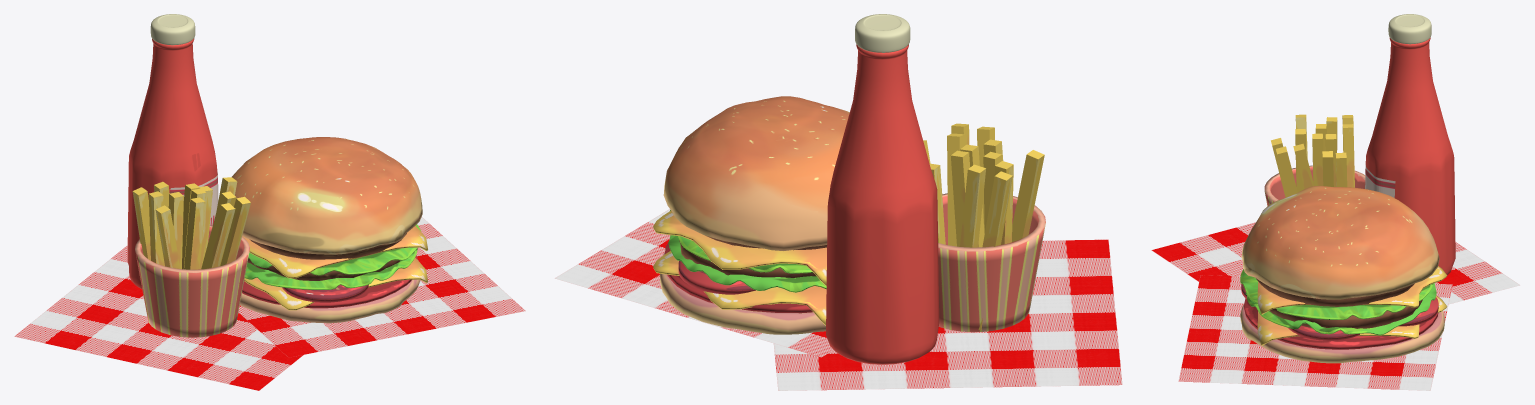
File: burger_and_fries.glb
3 views of the same model, side by side, from view 1: azimuth 30°, elevation 25°; view 2: azimuth 150°, elevation 25°; view 3: azimuth 270°, elevation 25° (orthographic). The views are drawn at different scales.
Visible parts, largest first — view 1: burger_0, fries_1, Plane_2, label_4, Plane.001_3; view 2: burger_0, label_4, Plane_2, fries_1, Plane.001_3; view 3: burger_0, label_4, Plane.001_3, Plane_2, fries_1.
Part boxes in pixels (box(x1,y1,x2,y2)): burger_0: box(232, 137, 427, 323); fries_1: box(132, 177, 250, 337); Plane_2: box(14, 245, 303, 390); label_4: box(127, 14, 218, 288); Plane.001_3: box(238, 217, 525, 357); burger_0: box(653, 96, 849, 334); label_4: box(826, 14, 939, 364); Plane_2: box(773, 239, 1122, 390); fries_1: box(923, 123, 1045, 332); Plane.001_3: box(555, 209, 833, 357); burger_0: box(1240, 186, 1447, 363); label_4: box(1365, 14, 1455, 275); Plane.001_3: box(1178, 275, 1452, 390); Plane_2: box(1151, 222, 1519, 304); fries_1: box(1264, 114, 1365, 206).
Size of the model in its own units: 0.343 by 0.1991 by 0.2645.
25 materials, 24 textured.
